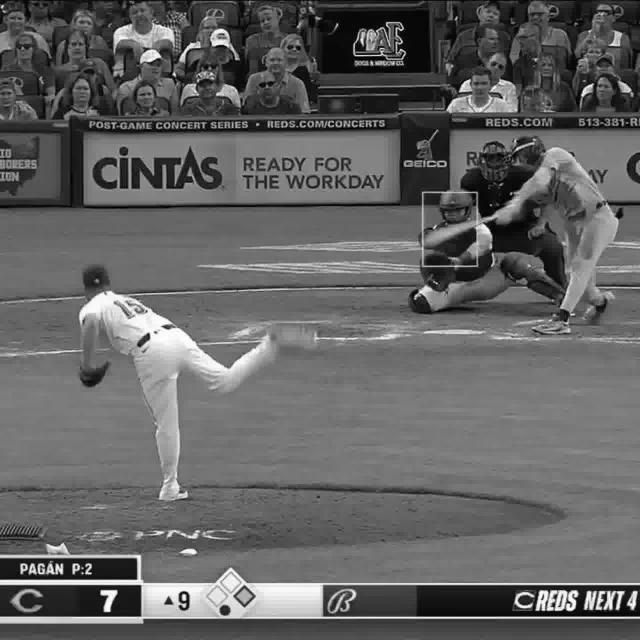base: (417, 328, 492, 343)
baseball_glove: (419, 250, 465, 296), (76, 357, 118, 393)
bat: (426, 209, 510, 242)
shoe: (262, 325, 318, 356), (584, 287, 622, 332), (532, 312, 579, 336), (156, 482, 192, 511)
